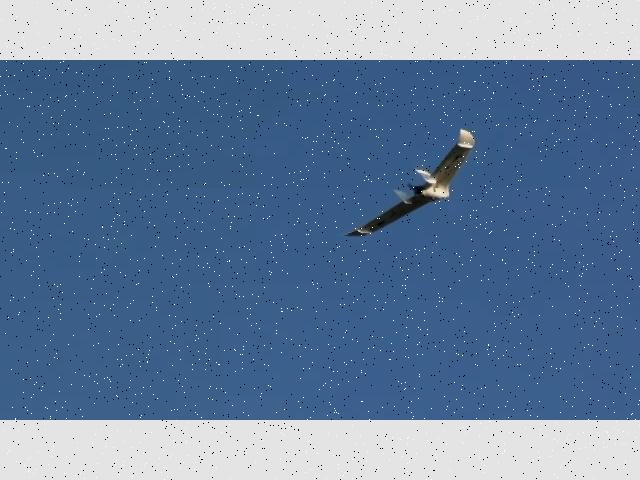Anti-Drone: (342, 129, 476, 239)
